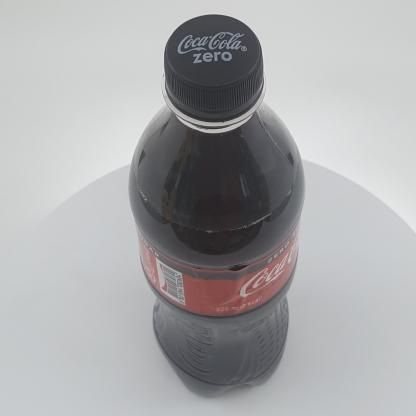------500ML: (129, 14, 305, 398)
